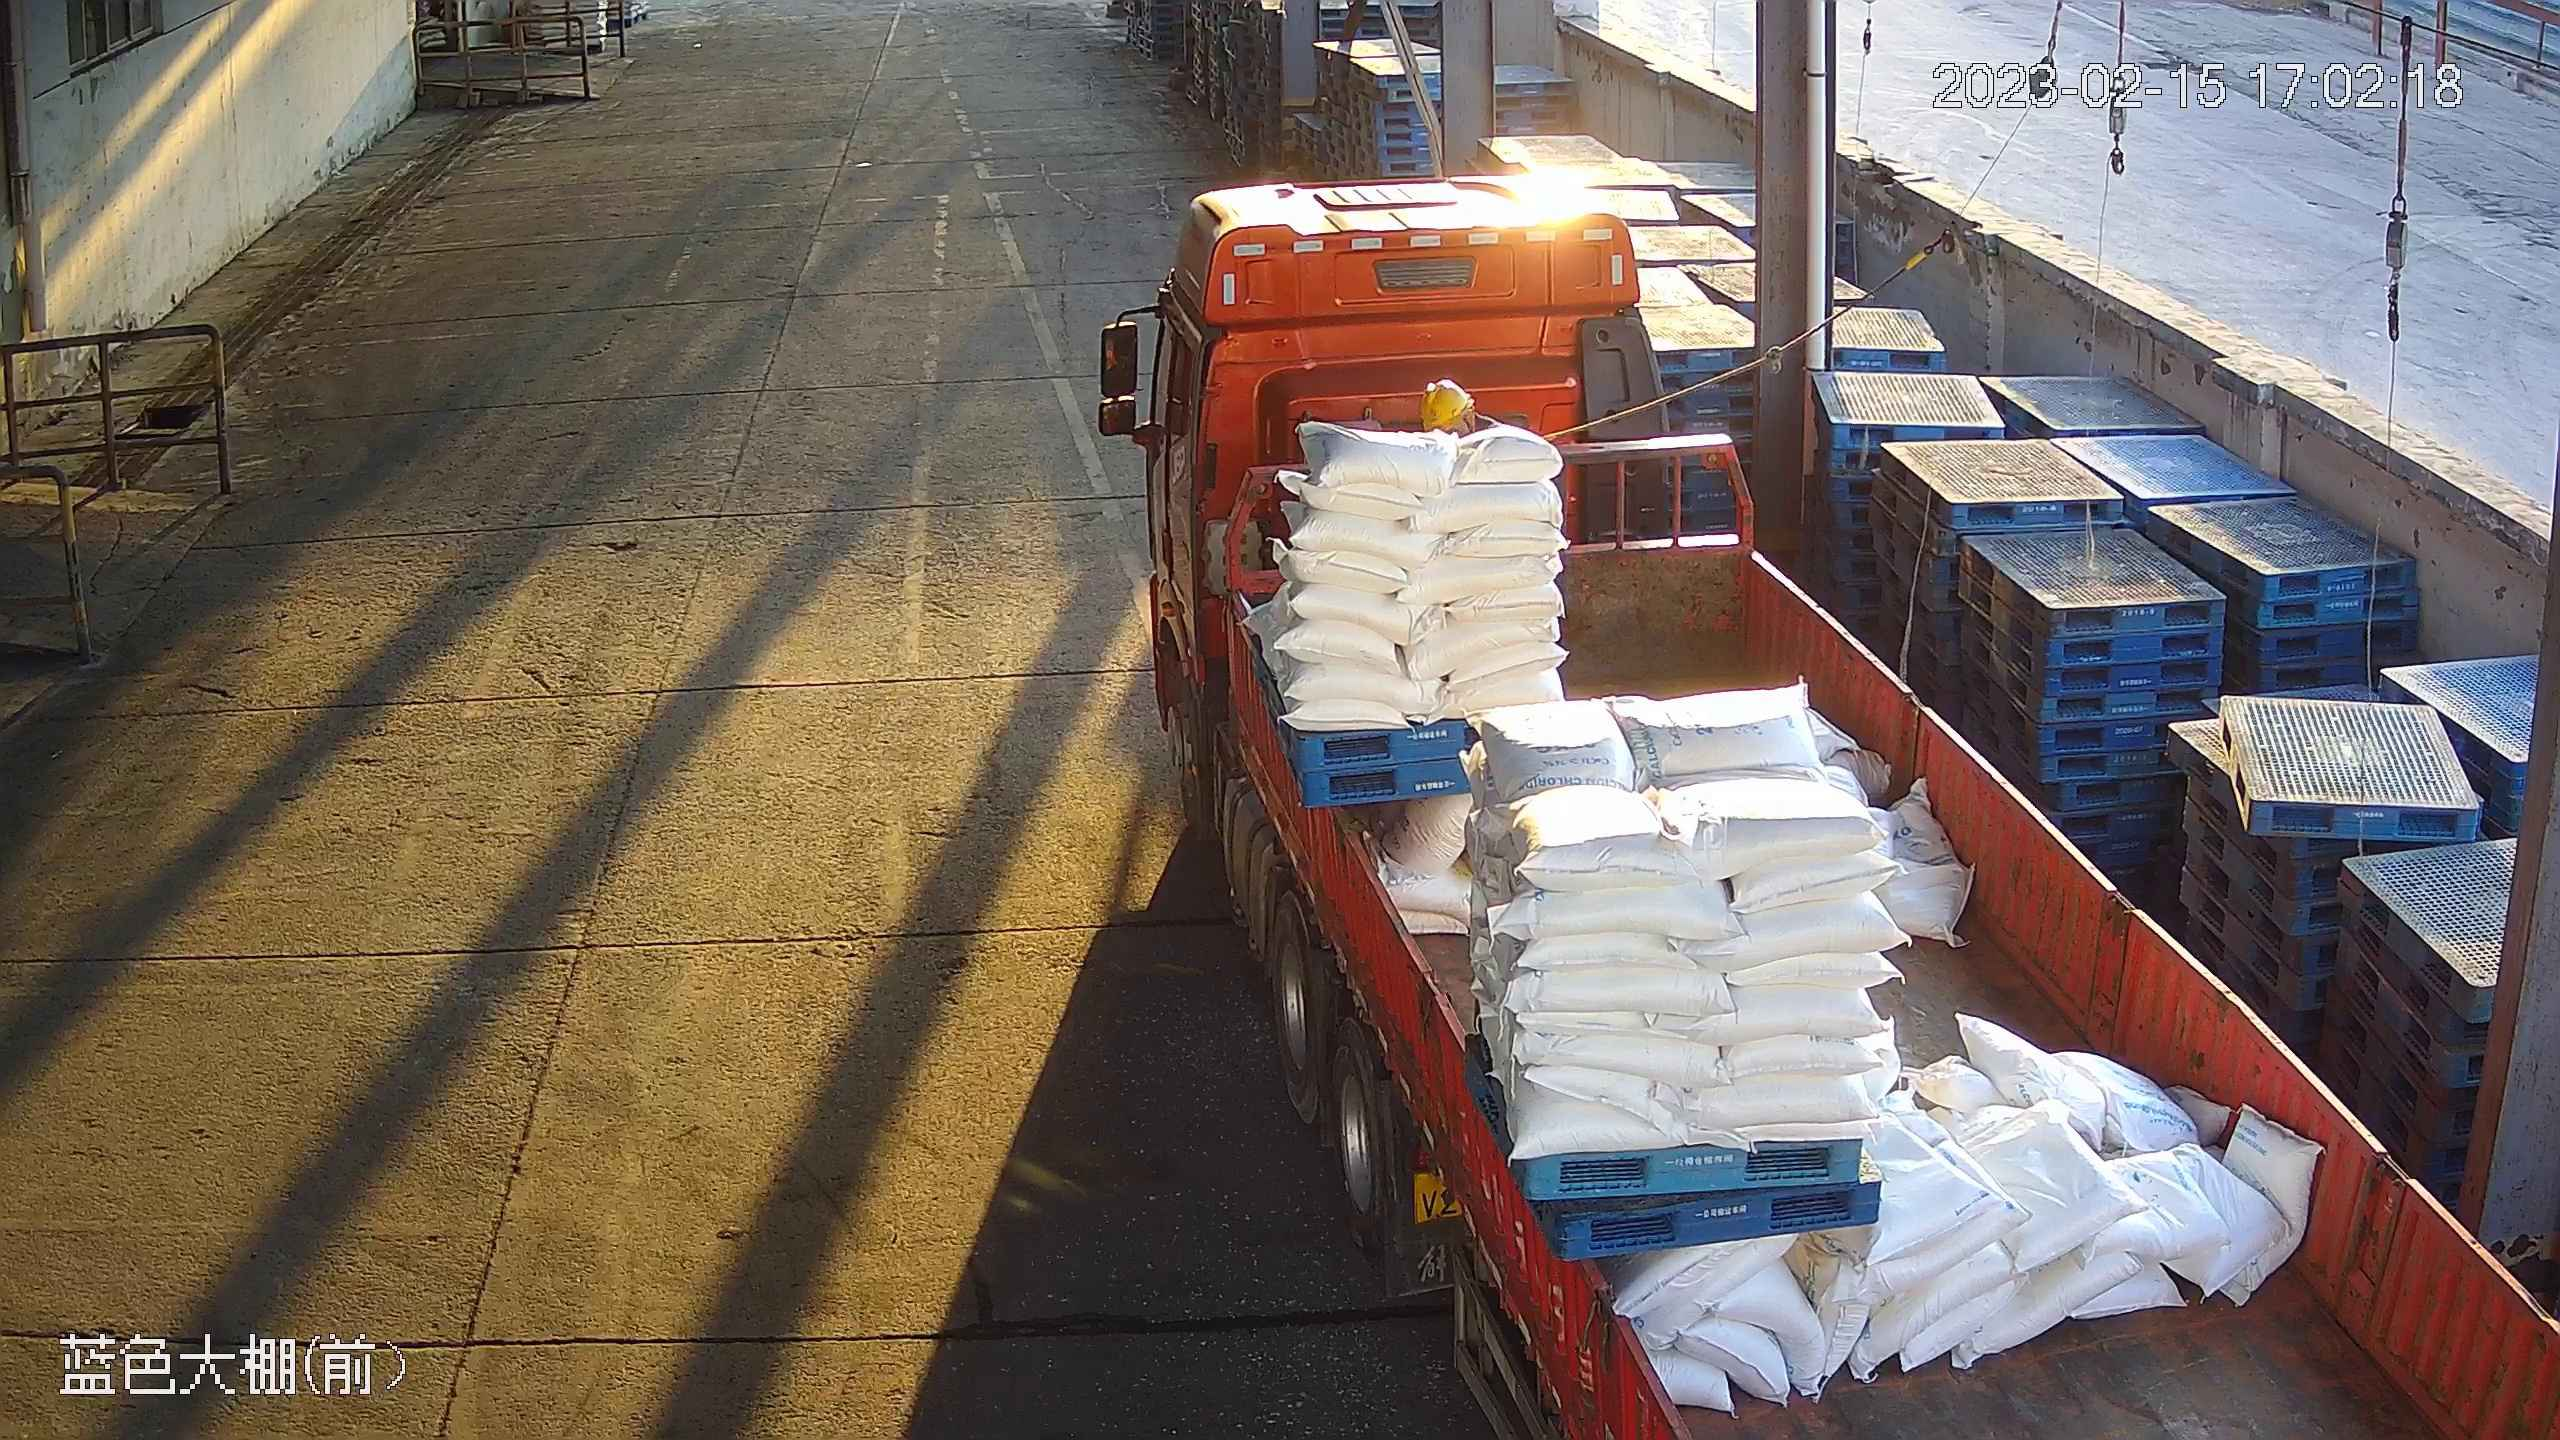helmet: (1421, 378, 1472, 427)
truck: (1097, 176, 2560, 1440)
